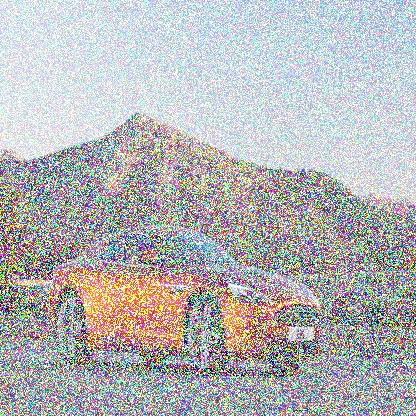Vehicle: (47, 216, 320, 372)
